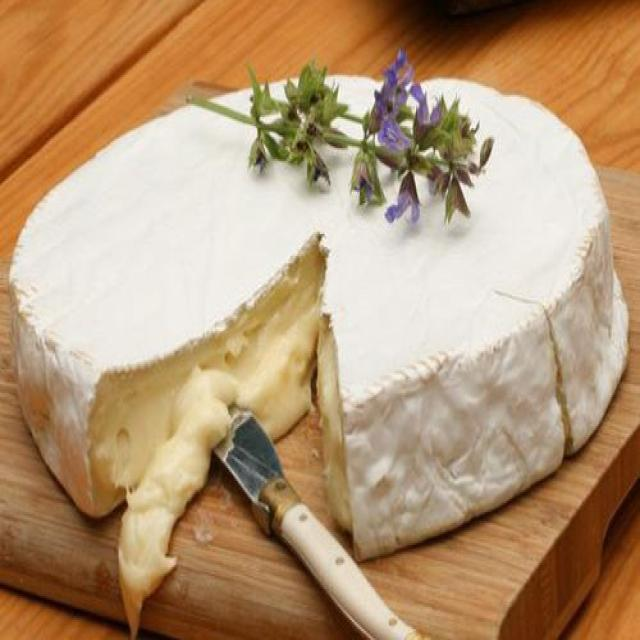Cheese: (4, 54, 625, 562)
